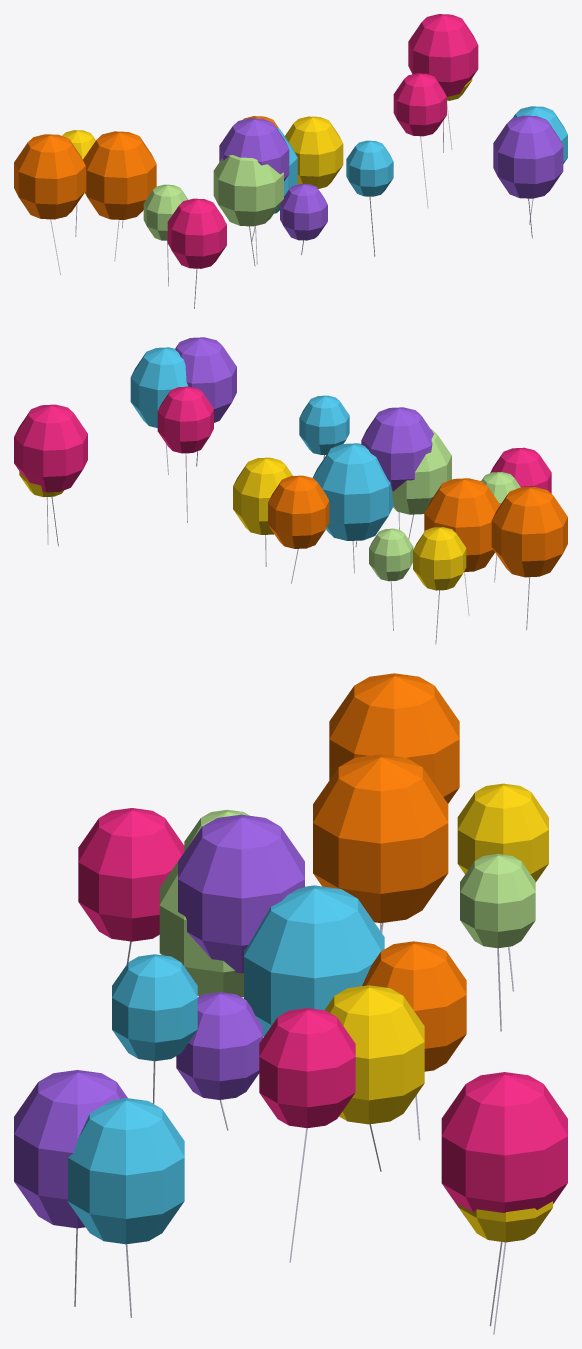
Rendered from W6_Mid_Balloons.fbx.
3 views of the same model, one above another, from view 1: azimuth 30°, elevation 25°; view 2: azimuth 150°, elevation 25°; view 3: azimuth 270°, elevation 25° (orthographic). The views are drawn at different scales.
Visible parts, largest first — view 1: W6_Mid_Balloons; view 2: W6_Mid_Balloons; view 3: W6_Mid_Balloons.
Part boxes in pixels (x1,y1,x2,y2): W6_Mid_Balloons: [14, 14, 567, 308]; W6_Mid_Balloons: [14, 337, 567, 644]; W6_Mid_Balloons: [14, 673, 567, 1334].
Size of the model in its own units: 121 by 34.5 by 63.5.
